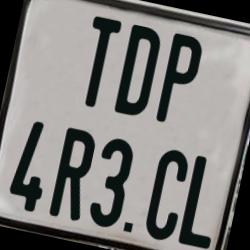3: (85, 136, 137, 233)
4: (5, 118, 58, 216)
C: (143, 147, 192, 244)
D: (112, 24, 164, 119)
L: (177, 154, 227, 250)
P: (155, 31, 207, 127)
R: (48, 126, 100, 224)
T: (74, 14, 122, 111)
